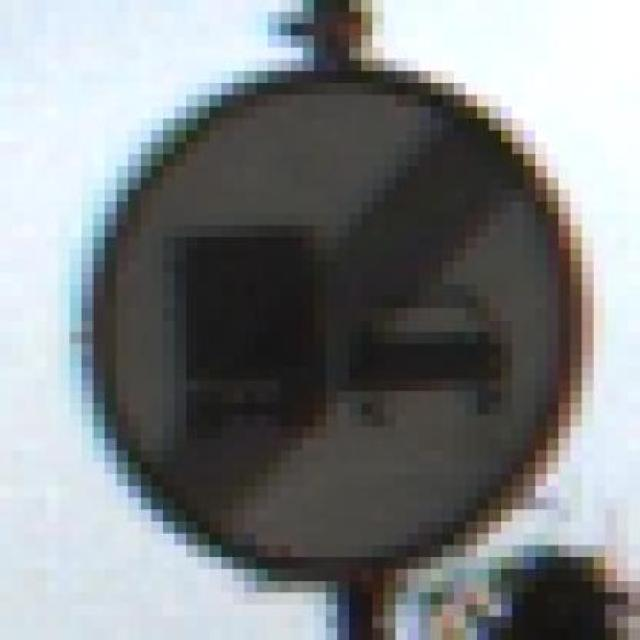Overtaking by trucks is prohibited: (57, 59, 628, 616)
